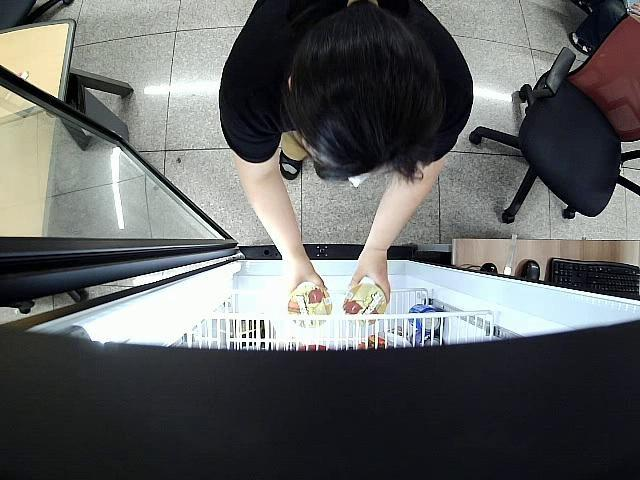04_chapagetti_S: (286, 283, 334, 328), (342, 282, 388, 326)
